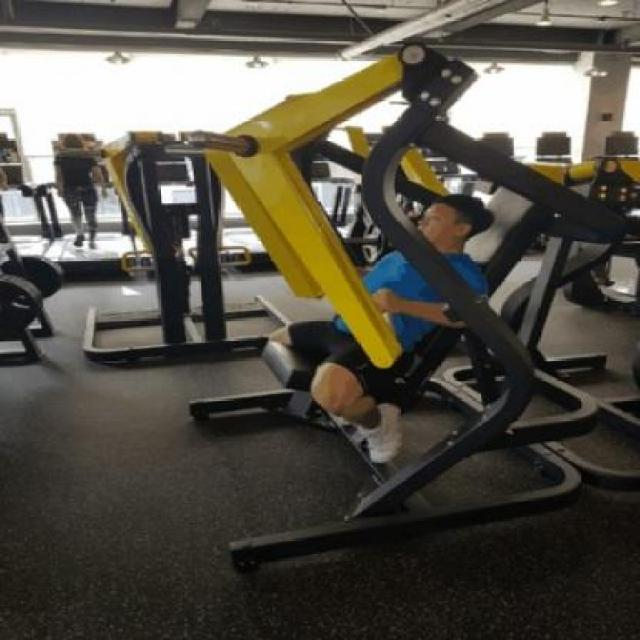Chest Press machine: (83, 40, 640, 597)
